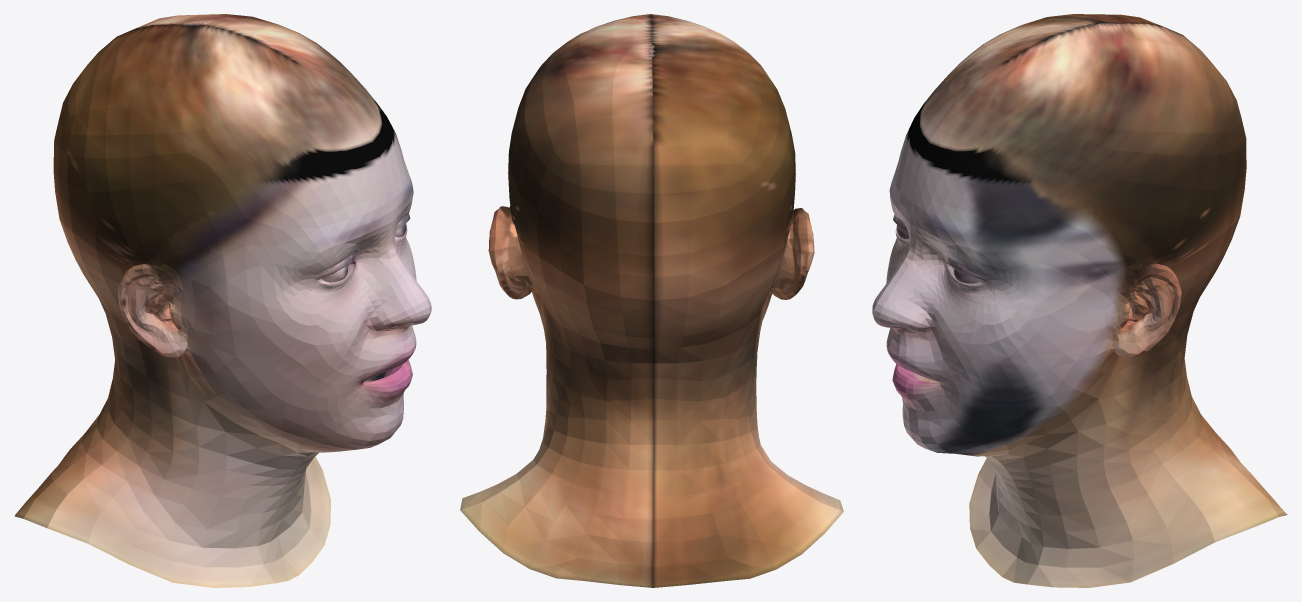
Rendered from cheo1_frame0002.obj.
3 renders of one model, left to right at view 1: azimuth 30°, elevation 25°; view 2: azimuth 150°, elevation 25°; view 3: azimuth 270°, elevation 25°, orthographic.
Size of the model in its own units: 0.2124 by 0.3209 by 0.2281.
1 material, 1 textured.
